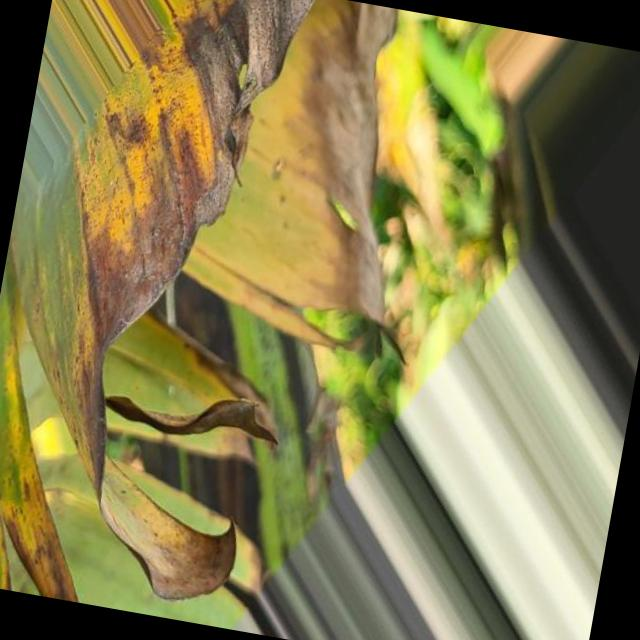Banana_Black_Sigatoka: (85, 0, 439, 365), (0, 255, 318, 634)
